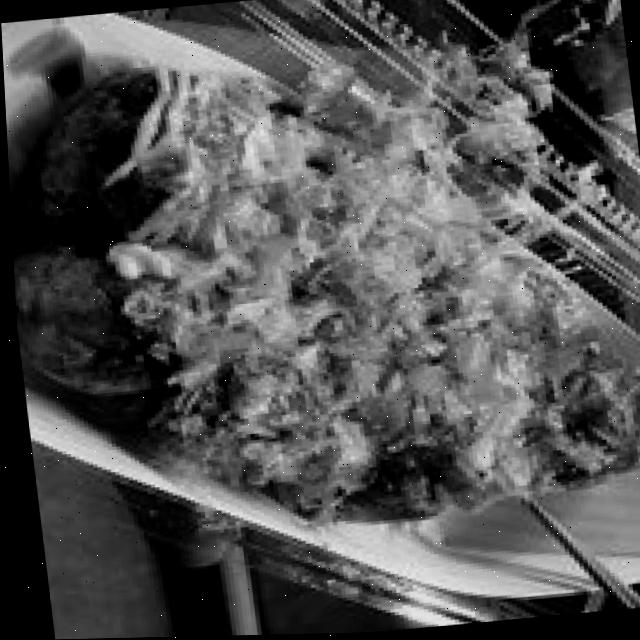炸货点心: (1, 12, 640, 554)
